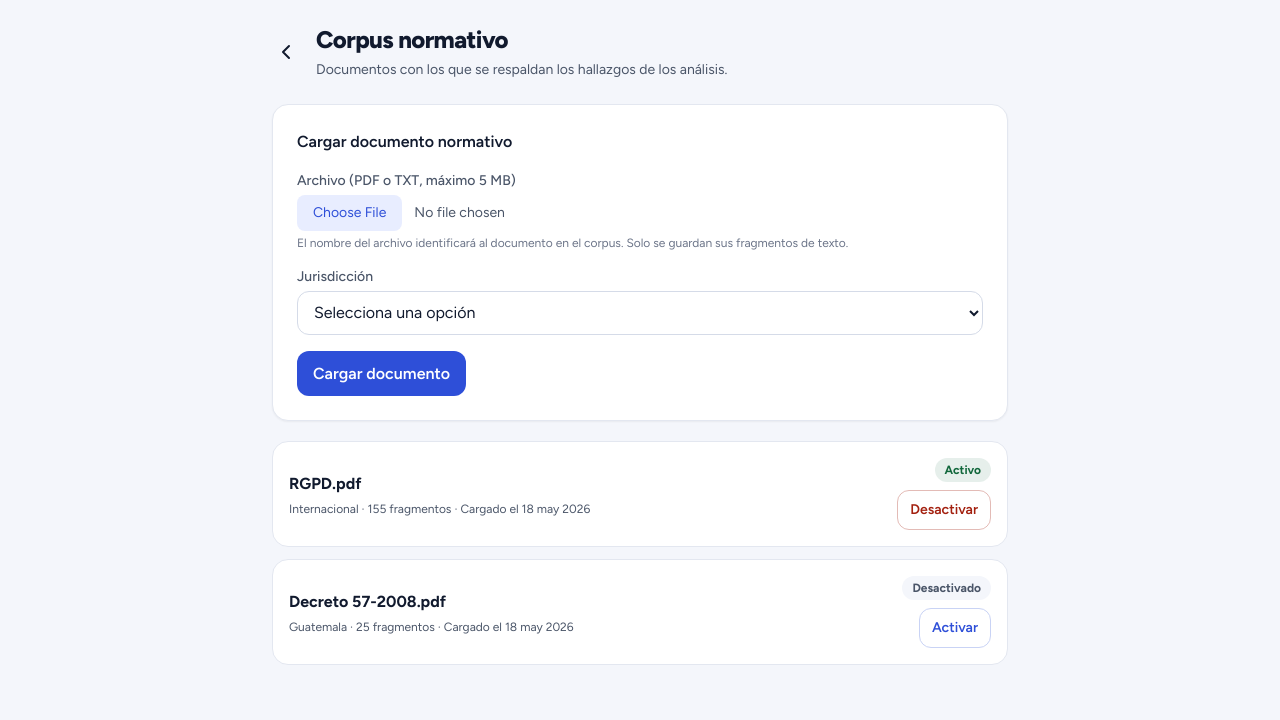
AdminCorpus › activa un documento desactivado
Click the button with aria-label "Activar Decreto 57-2008.pdf".
click(955, 628)  # box [919, 608, 991, 648]
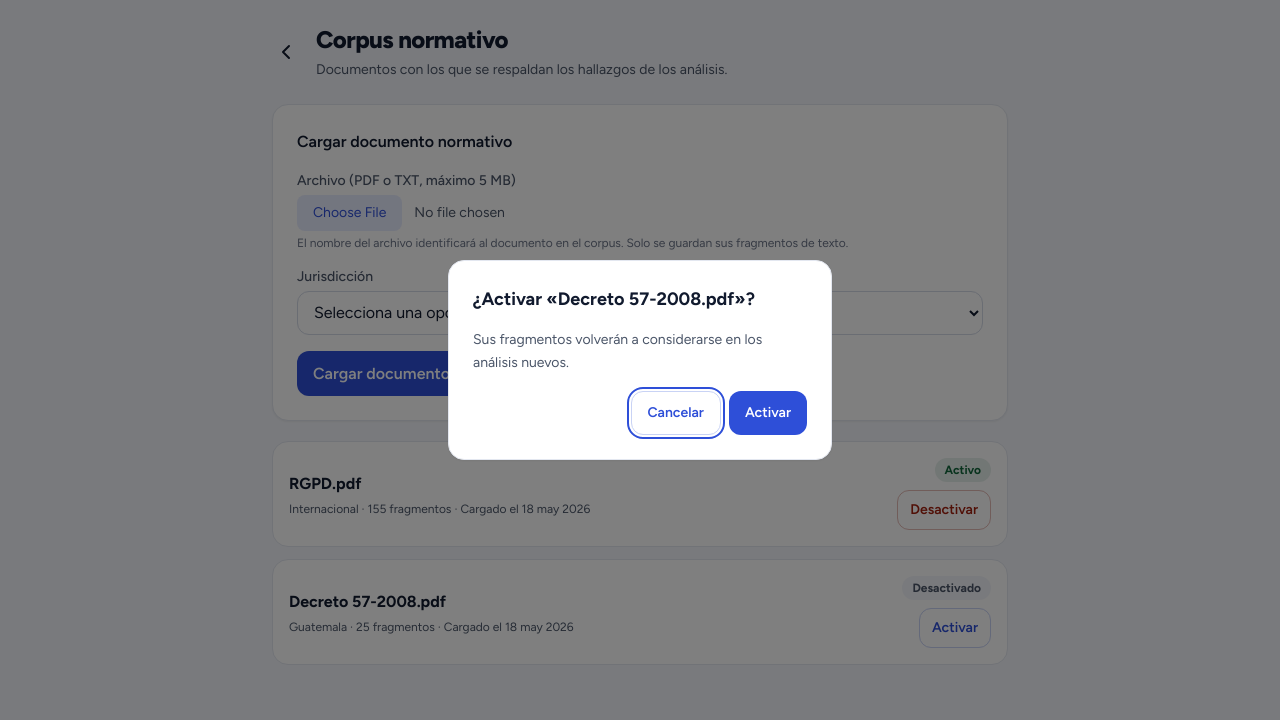
Click the button "Activar".
click(768, 413)  # box [729, 391, 807, 435]
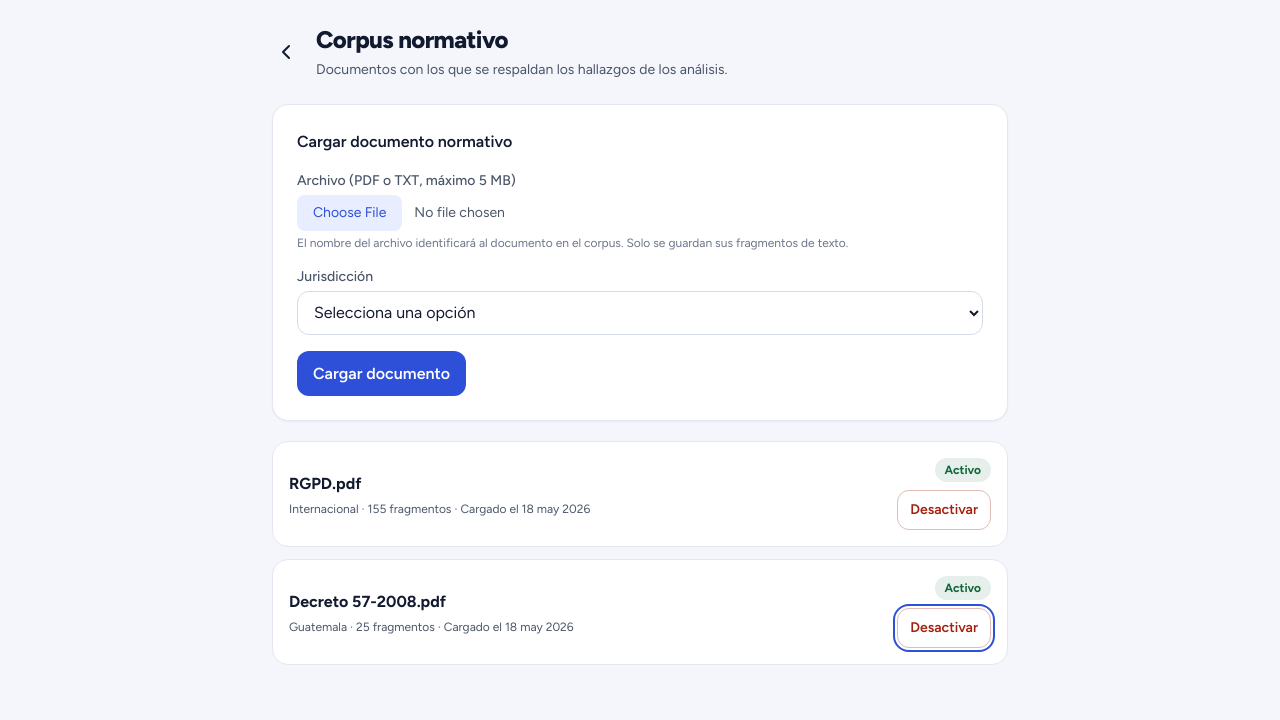
Expected: the button with aria-label "Desactivar Decreto 57-2008.pdf" is shown, [897, 608, 991, 648]
